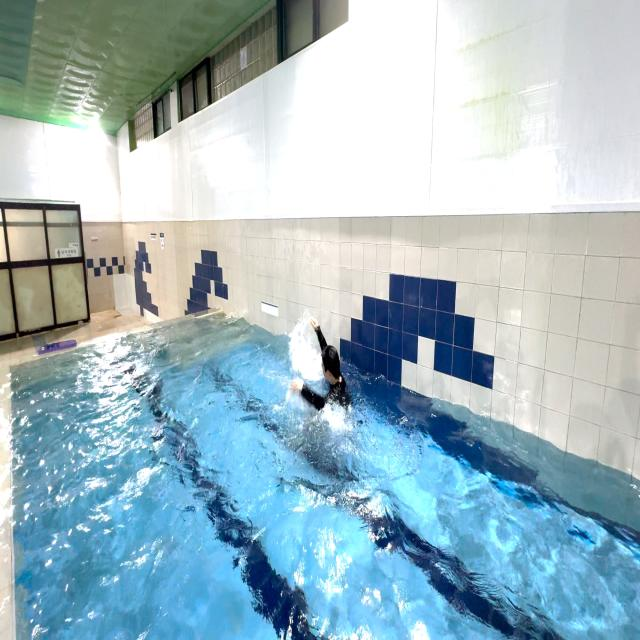Drowning: (281, 301, 364, 450)
